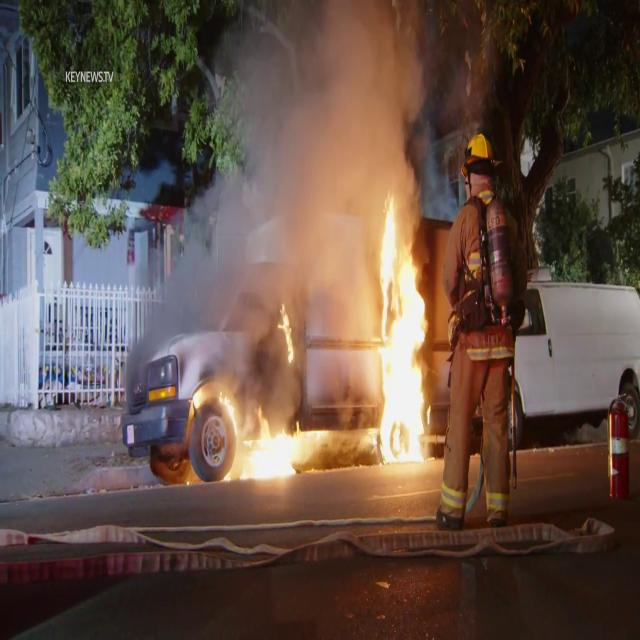Fire: (368, 186, 440, 467), (228, 405, 308, 487)
Smoke: (132, 0, 463, 363)
